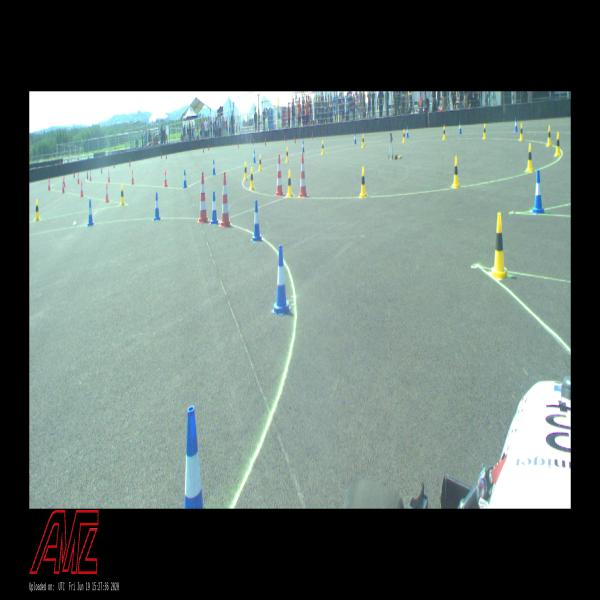blue_cone: (184, 406, 205, 508), (272, 247, 291, 313), (532, 172, 544, 213), (251, 200, 262, 242), (210, 191, 218, 223), (154, 192, 161, 220), (87, 200, 94, 226), (183, 170, 188, 188), (212, 158, 216, 176), (514, 117, 518, 132), (253, 149, 256, 164), (459, 122, 462, 134), (354, 132, 357, 144), (406, 127, 409, 138), (302, 139, 304, 153)
large_orange_cone: (220, 171, 232, 228), (198, 172, 210, 223), (298, 155, 308, 198), (275, 157, 284, 196)
orange_cone: (104, 184, 110, 203), (163, 170, 168, 186), (131, 169, 135, 184), (80, 182, 84, 196), (62, 175, 66, 187), (47, 178, 51, 189), (61, 179, 64, 193), (77, 172, 80, 184), (89, 170, 92, 181), (107, 172, 110, 181)
unknown_cone: (86, 171, 89, 180), (113, 162, 115, 169), (129, 160, 131, 167), (101, 167, 102, 174)
yellow_cone: (490, 212, 509, 280), (358, 166, 367, 198), (451, 156, 460, 188), (525, 142, 534, 172), (286, 171, 294, 197), (554, 132, 562, 156), (249, 166, 255, 190), (546, 124, 552, 146), (34, 199, 40, 221), (120, 184, 125, 206), (518, 123, 524, 140), (243, 161, 248, 181), (482, 122, 487, 140), (258, 154, 263, 171), (285, 146, 290, 162), (442, 125, 447, 140), (402, 128, 406, 143), (321, 140, 325, 154), (361, 134, 365, 147)
